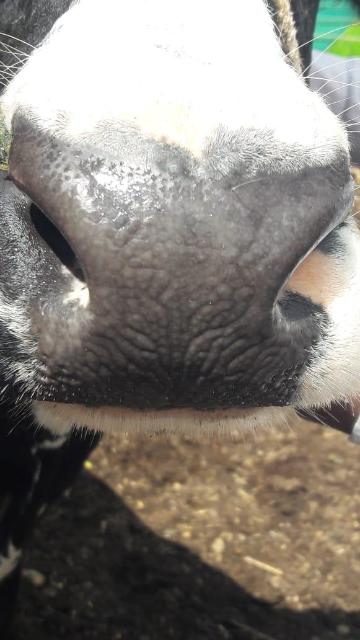Muzzle: (76, 160, 280, 398)
